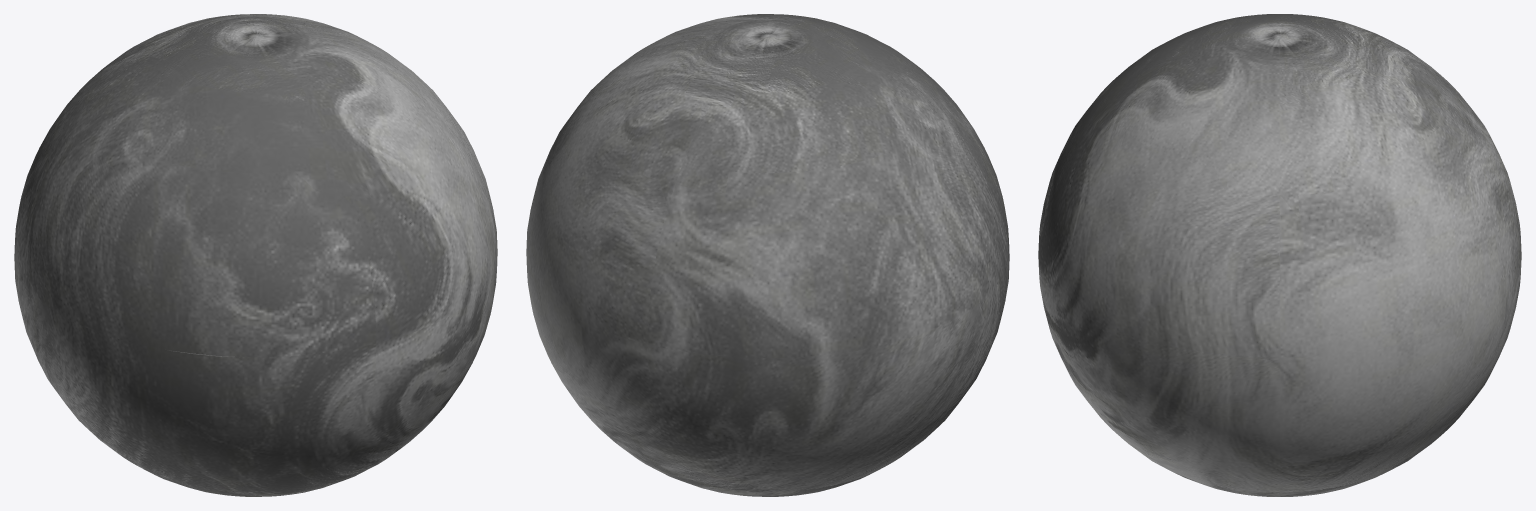
The model's file is yin-yang+sphere+3d+model.glb.
The picture shows the model from 3 angles, left to right: view 1: azimuth 30°, elevation 25°; view 2: azimuth 150°, elevation 25°; view 3: azimuth 270°, elevation 25°; orthographic projection.
Visible parts, largest first — view 1: tripo_node_fcd5609c-ce5b-4f97-9109-d2a3a81784d3; view 2: tripo_node_fcd5609c-ce5b-4f97-9109-d2a3a81784d3; view 3: tripo_node_fcd5609c-ce5b-4f97-9109-d2a3a81784d3.
Part boxes in pixels (x1,y1,x2,y2): tripo_node_fcd5609c-ce5b-4f97-9109-d2a3a81784d3: (14, 14, 497, 496); tripo_node_fcd5609c-ce5b-4f97-9109-d2a3a81784d3: (526, 14, 1009, 496); tripo_node_fcd5609c-ce5b-4f97-9109-d2a3a81784d3: (1038, 14, 1521, 496).
Bounding box in the file's own units: 0.998 × 0.998 × 0.998.
Materials: 1 (1 with a texture image).
